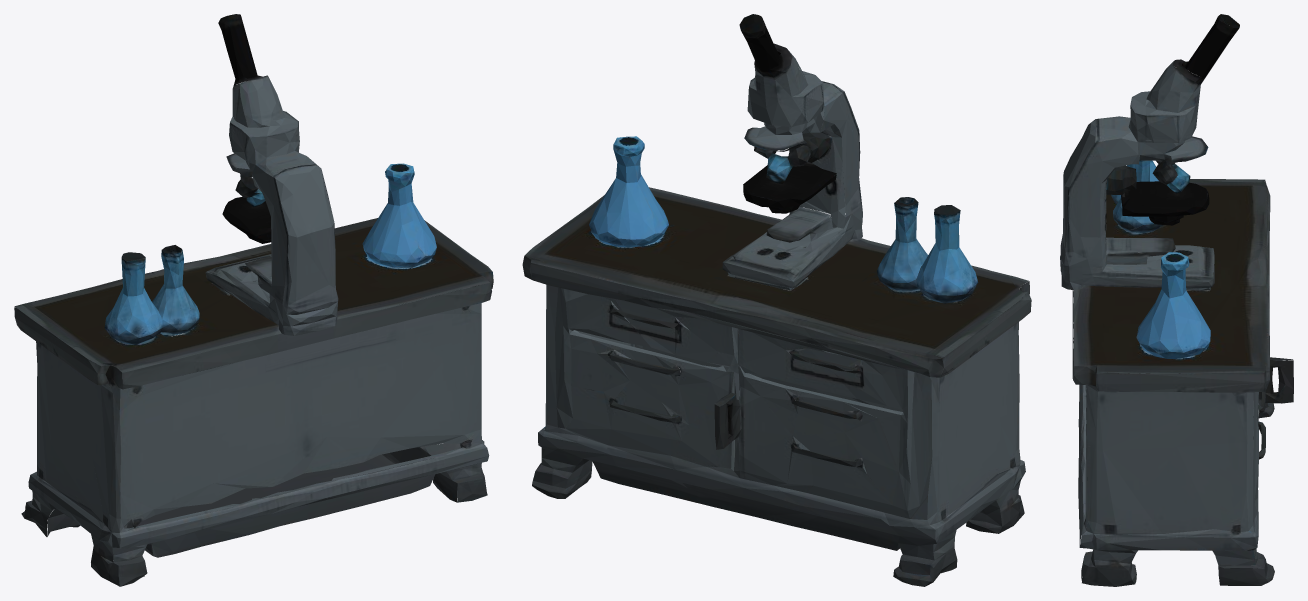
File: bench.glb
The picture shows the model from 3 angles, left to right: view 1: azimuth 30°, elevation 25°; view 2: azimuth 150°, elevation 25°; view 3: azimuth 270°, elevation 25°; orthographic projection. The views are drawn at different scales.
Visible parts, largest first — view 1: world; view 2: world; view 3: world.
Part boxes in pixels (x1,y1,x2,y2): world: [14, 14, 493, 586]; world: [522, 14, 1031, 586]; world: [1060, 14, 1293, 586].
Bounding box in the file's own units: 0.8727 × 1 × 0.4436.
Materials: 1 (1 with a texture image).
